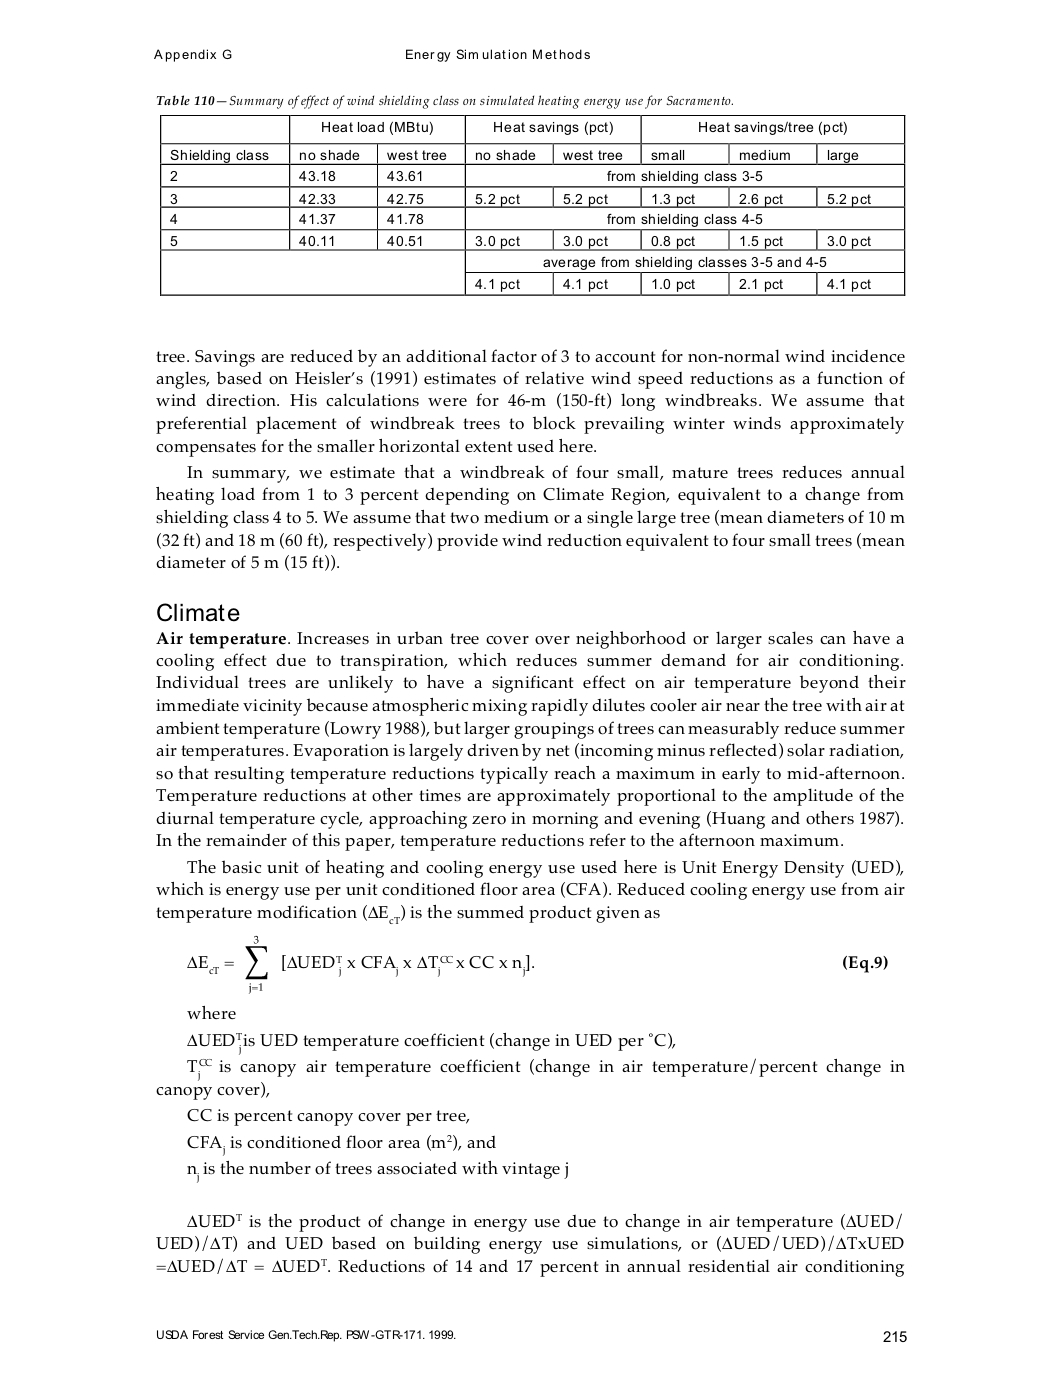Table: (160, 114, 905, 296)
formula: (187, 935, 887, 993)
